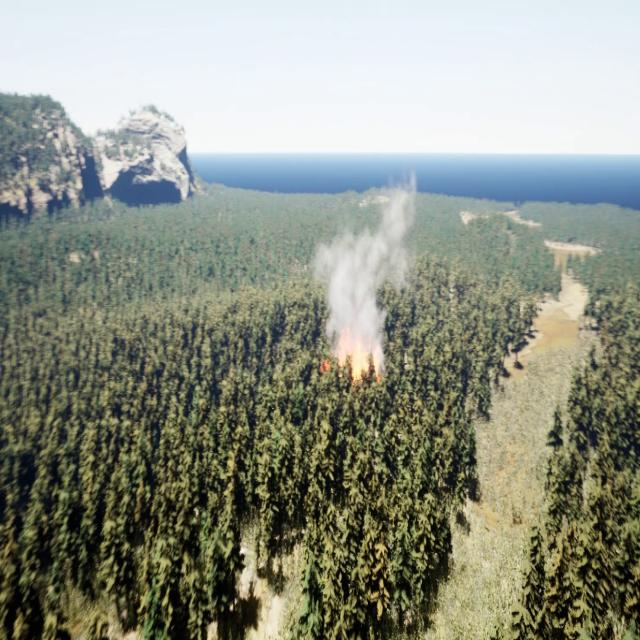fire: (318, 325, 384, 392)
smoke: (310, 162, 420, 363)
